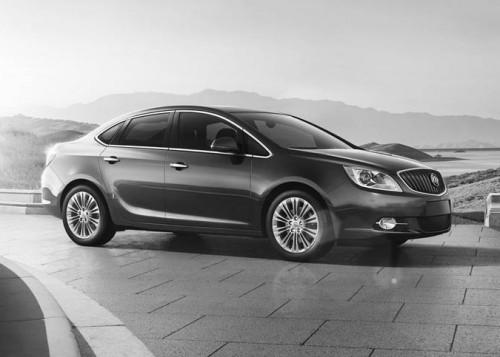car: (41, 104, 455, 264)
